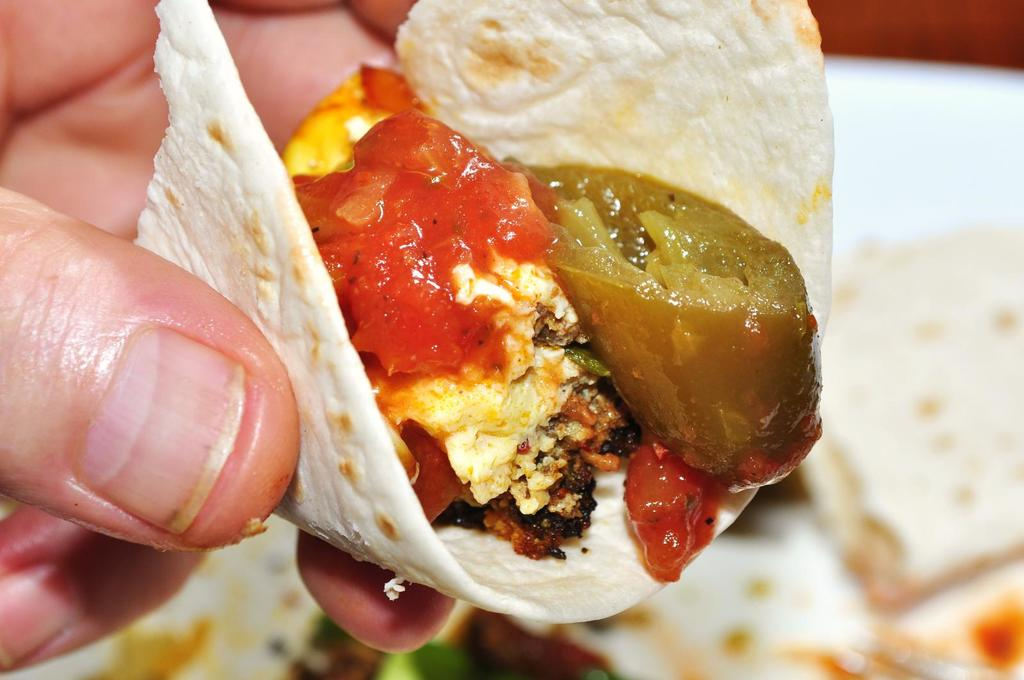taco: (132, 0, 838, 624)
